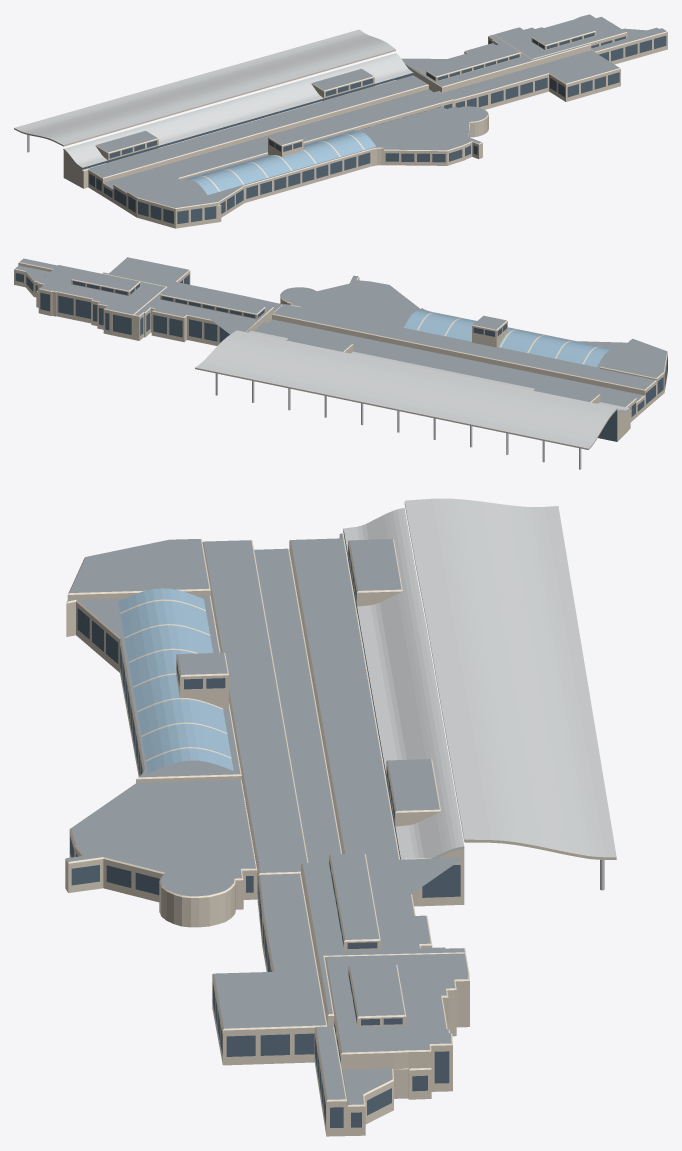
The picture shows the model from 3 angles, top to bottom: view 1: azimuth 30°, elevation 25°; view 2: azimuth 150°, elevation 25°; view 3: azimuth 270°, elevation 25°; orthographic projection. The views are drawn at different scales.
Visible parts, largest first — view 1: charlotte-douglas-international-airport-terminal; view 2: charlotte-douglas-international-airport-terminal; view 3: charlotte-douglas-international-airport-terminal.
Part boxes in pixels (x1=…): charlotte-douglas-international-airport-terminal: x1=14, y1=14, x2=667, y2=228; charlotte-douglas-international-airport-terminal: x1=14, y1=257, x2=667, y2=469; charlotte-douglas-international-airport-terminal: x1=65, y1=498, x2=616, y2=1136.
Size of the model in its own units: 448 by 25 by 180.
